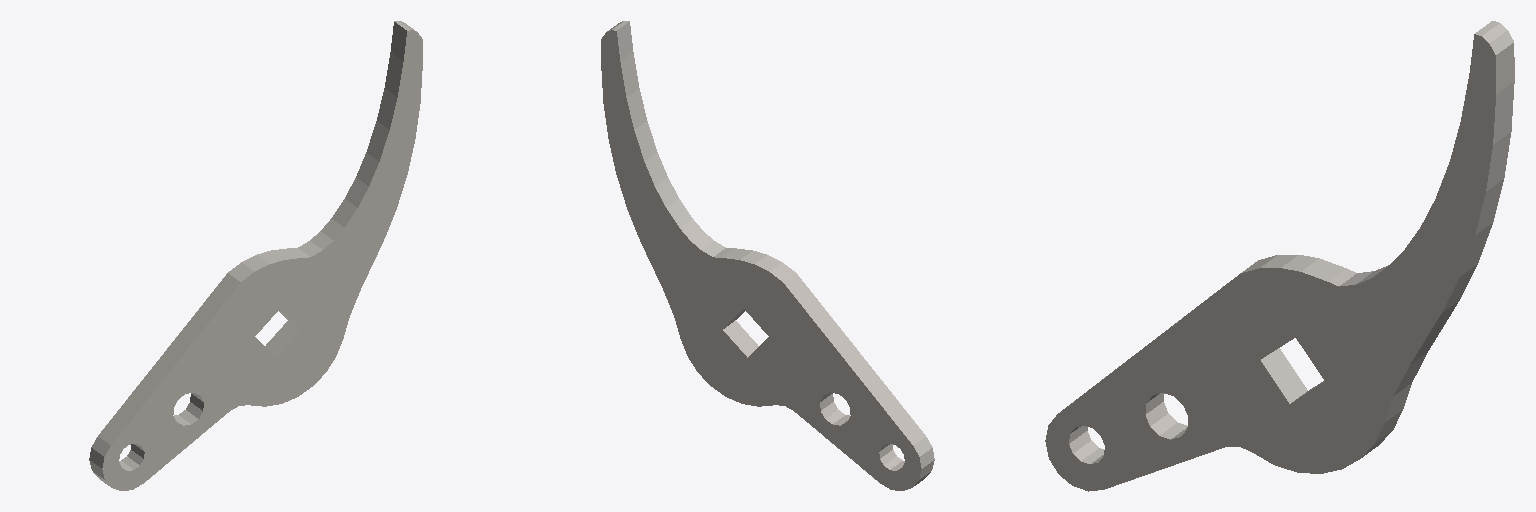
robot.urdf — cutter:
<?xml version="1.0" encoding="utf-8"?>
<!-- This URDF was automatically created by SolidWorks to URDF Exporter! Originally created by [author] ([email redacted]) 
     Commit Version: 1.6.0-4-g7f85cfe  Build Version: 1.6.7995.38578
     For more information, please see http://wiki.ros.org/sw_urdf_exporter -->
<robot
  name="cutter">
  <link
    name="base_link">
    <inertial>
      <origin
        xyz="0.000779839845872349 -0.0170873194546623 0.0582199927820382"
        rpy="0 0 0" />
      <mass
        value="0.200722958769519" />
      <inertia
        ixx="0.000122002272224489"
        ixy="-1.13774292063113E-06"
        ixz="-4.83617188880724E-06"
        iyy="0.000194887608314948"
        iyz="2.99117381858236E-06"
        izz="9.59225921675798E-05" />
    </inertial>
    <visual>
      <origin
        xyz="0 0 0"
        rpy="0 0 0" />
      <geometry>
        <mesh
          filename="package://cutter/meshes/base_link.STL" />
      </geometry>
      <material
        name="">
        <color
          rgba="0.298039215686275 0.298039215686275 0.298039215686275 1" />
      </material>
    </visual>
    <collision>
      <origin
        xyz="0 0 0"
        rpy="0 0 0" />
      <geometry>
        <mesh
          filename="package://cutter/meshes/base_link.STL" />
      </geometry>
    </collision>
  </link>
  <link
    name="blade_stationary">
    <inertial>
      <origin
        xyz="-0.00557368894630381 -0.0122907539881133 0.00132925858009713"
        rpy="0 0 0" />
      <mass
        value="0.0157008165066123" />
      <inertia
        ixx="3.54894565615037E-06"
        ixy="-1.00617922467536E-06"
        ixz="4.9211811874153E-09"
        iyy="1.01338167968976E-06"
        iyz="4.1050442824912E-08"
        izz="4.54778499319921E-06" />
    </inertial>
    <visual>
      <origin
        xyz="0 0 0"
        rpy="0 0 0" />
      <geometry>
        <mesh
          filename="package://cutter/meshes/blade_stationary.STL" />
      </geometry>
      <material
        name="">
        <color
          rgba="0.898039215686275 0.898039215686275 0.898039215686275 1" />
      </material>
    </visual>
    <collision>
      <origin
        xyz="0 0 0"
        rpy="0 0 0" />
      <geometry>
        <mesh
          filename="package://cutter/meshes/blade_stationary.STL" />
      </geometry>
    </collision>
  </link>
  <joint
    name="joint_blade_stationary"
    type="fixed">
    <origin
      xyz="0 -0.0083875 0.12394"
      rpy="-1.5708 0 0" />
    <parent
      link="base_link" />
    <child
      link="blade_stationary" />
    <axis
      xyz="0 0 0" />
  </joint>
  <link
    name="blade_moving">
    <inertial>
      <origin
        xyz="3.87969033185664E-05 -0.00350154660982081 0.00219998568406248"
        rpy="0 0 0" />
      <mass
        value="0.0382144342405943" />
      <inertia
        ixx="8.88222836308347E-06"
        ixy="7.69834936555405E-06"
        ixz="4.74020773662496E-12"
        iyy="1.00340865289331E-05"
        iyz="1.44904462744025E-11"
        izz="1.87930181166959E-05" />
    </inertial>
    <visual>
      <origin
        xyz="0 0 0"
        rpy="0 0 0" />
      <geometry>
        <mesh
          filename="package://cutter/meshes/blade_moving.STL" />
      </geometry>
      <material
        name="">
        <color
          rgba="0.776470588235294 0.756862745098039 0.737254901960784 1" />
      </material>
    </visual>
    <collision>
      <origin
        xyz="0 0 0"
        rpy="0 0 0" />
      <geometry>
        <mesh
          filename="package://cutter/meshes/blade_moving.STL" />
      </geometry>
    </collision>
  </link>
  <joint
    name="joint_blade"
    type="revolute">
    <origin
      xyz="0 -0.0059875 0.12394"
      rpy="-1.5708 0 0" />
    <parent
      link="base_link" />
    <child
      link="blade_moving" />
    <limit
      effort="0.5"
      lower="-3.14159265358979"
      upper="3.14159265358979"
      velocity="1" />
    <axis
      xyz="0 0 1" />
  </joint>
</robot>

--- What the picture shows (computed from the rendered views, not written in the file) ---
The picture shows the robot from 3 angles, left to right: view 1: azimuth 30°, elevation 25°; view 2: azimuth 150°, elevation 25°; view 3: azimuth 330°, elevation 25°; orthographic projection.
Robot: cutter — 3 links, 2 joints (1 revolute, 1 fixed); root link base_link; default pose: every joint at zero.
Links seen in each view (by area): view 1: blade_moving; view 2: blade_moving; view 3: blade_moving.
Link boxes in pixels (<box>): blade_moving: <box>89,21,422,490</box>; blade_moving: <box>601,21,934,490</box>; blade_moving: <box>1045,21,1514,491</box>.
Bounding box of the posed robot: 0.0621 × 0.0044 × 0.0726 m (x, y, z).
Meshes: 3 distinct files referenced, 1 mesh visuals loaded (1 binary STL); not drawn: 2 (reference not matched to a file when rendering).